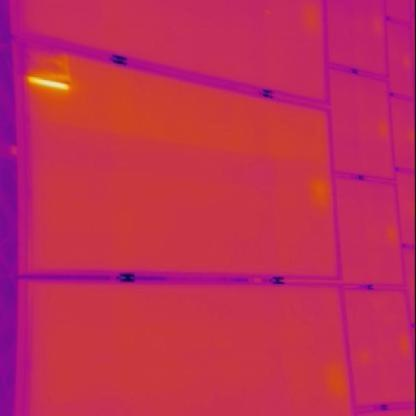anomaly: (28, 54, 73, 95)
